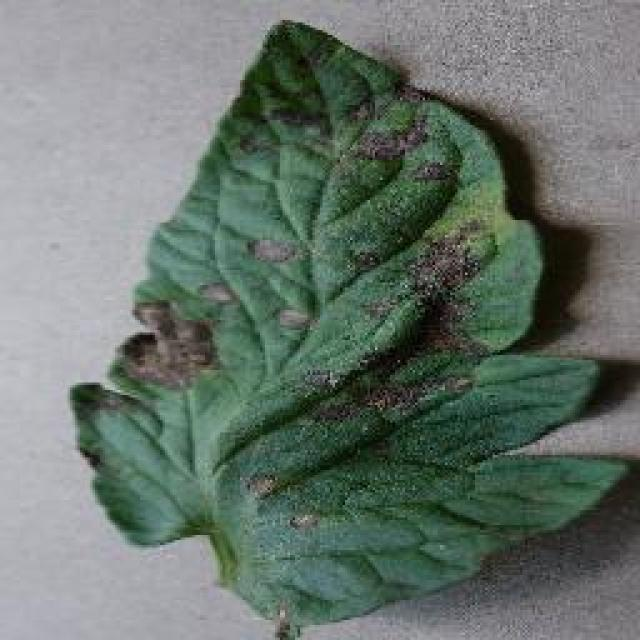Tomato Early blight leaf: (85, 29, 633, 611)
